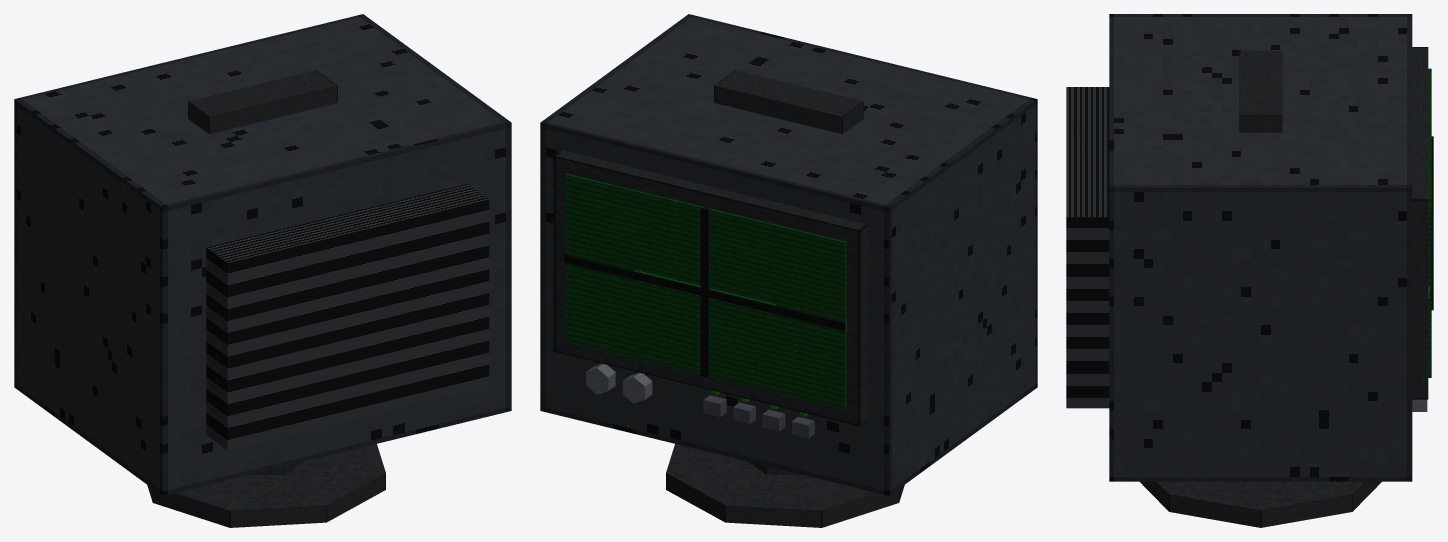
File: camera_monitor.glb
The picture shows the model from 3 angles, left to right: view 1: azimuth 30°, elevation 25°; view 2: azimuth 150°, elevation 25°; view 3: azimuth 270°, elevation 25°; orthographic projection.
Visible parts, largest first — view 1: camera_monitor; view 2: camera_monitor; view 3: camera_monitor.
Boxes of the visible parts, <box> form: camera_monitor: <box>14,14,511,527</box>; camera_monitor: <box>540,14,1037,527</box>; camera_monitor: <box>1066,14,1433,527</box>.
Bounding box in the file's own units: 0.38 × 0.398 × 0.34.
Materials: 1 (1 with a texture image).
